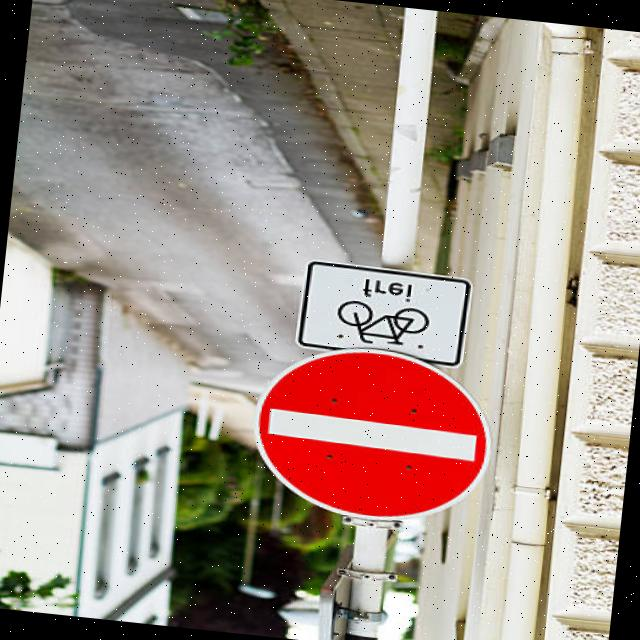do_not_enter: (240, 337, 506, 536)
